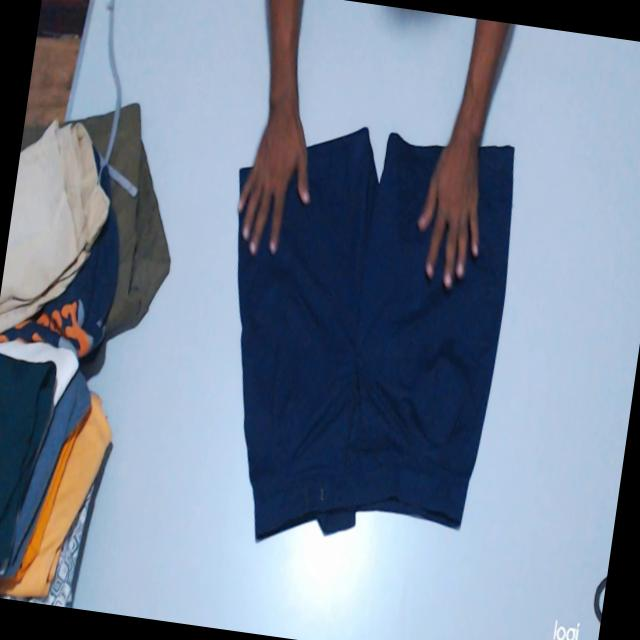new-garment: (238, 128, 514, 539)
